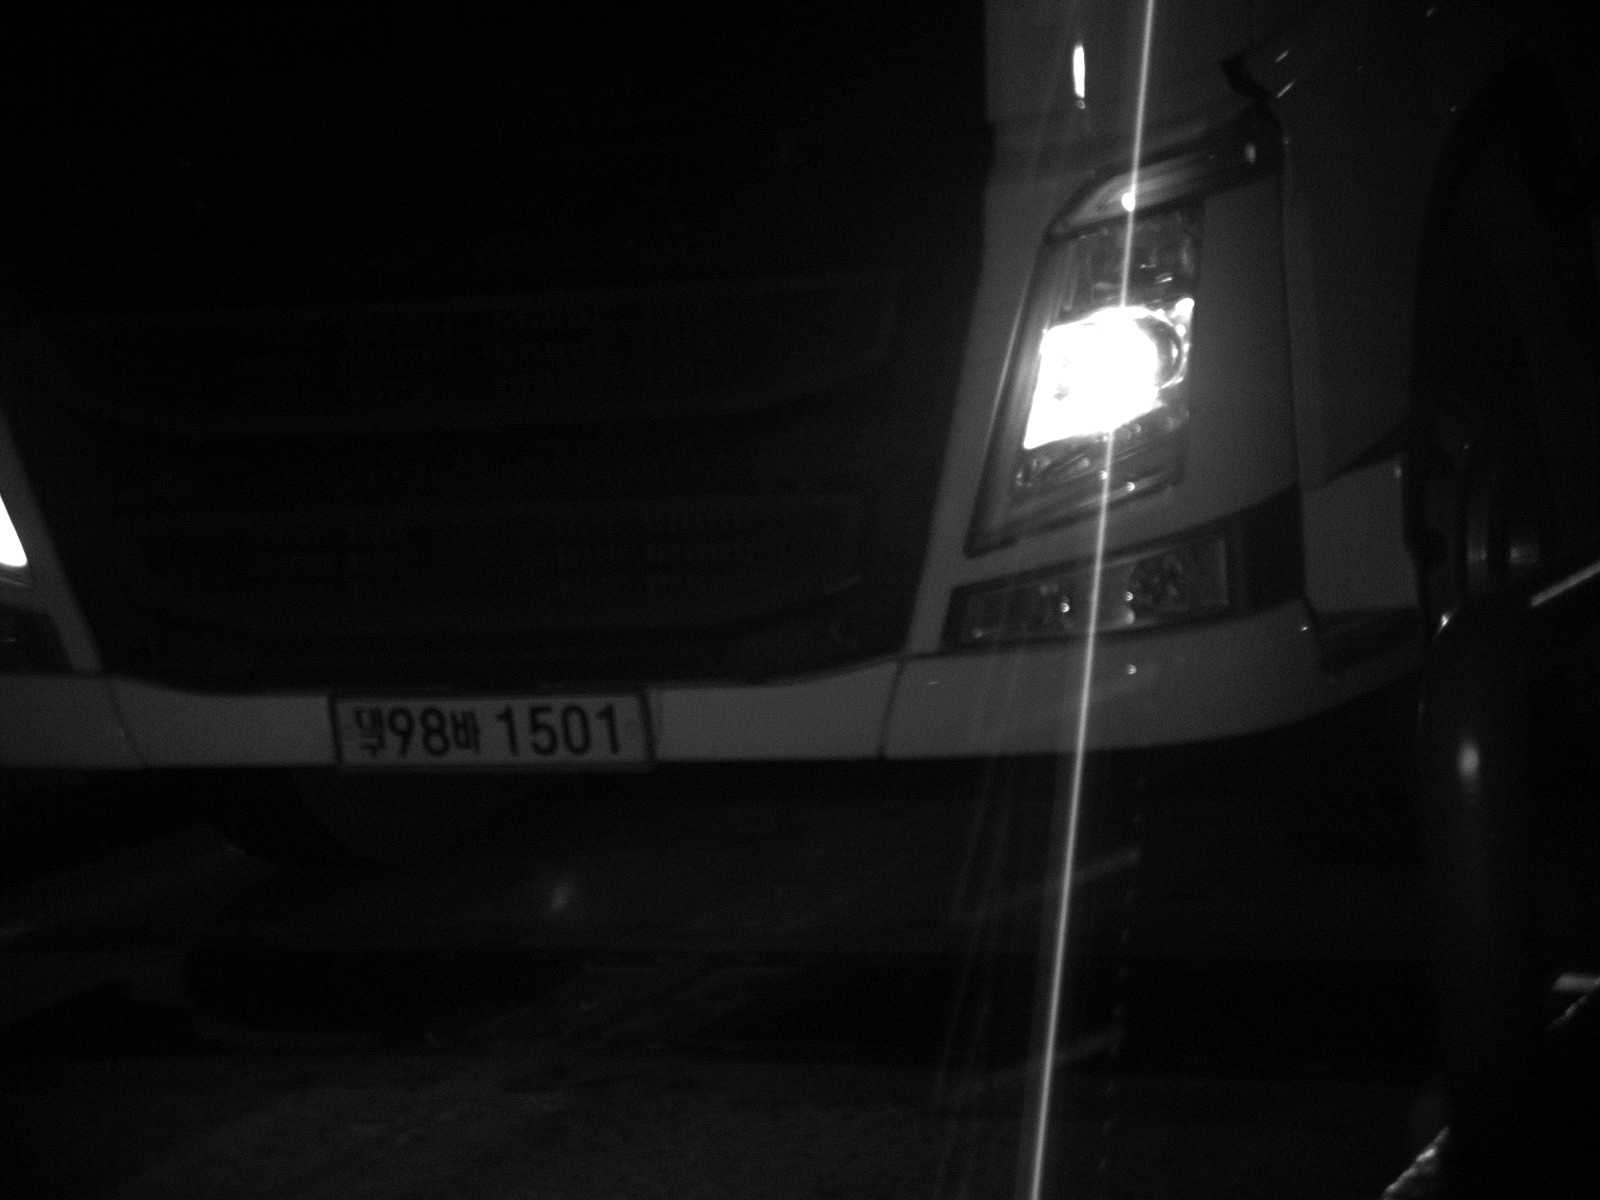car: (1, 3, 1600, 938)
plate: (326, 688, 659, 773)
